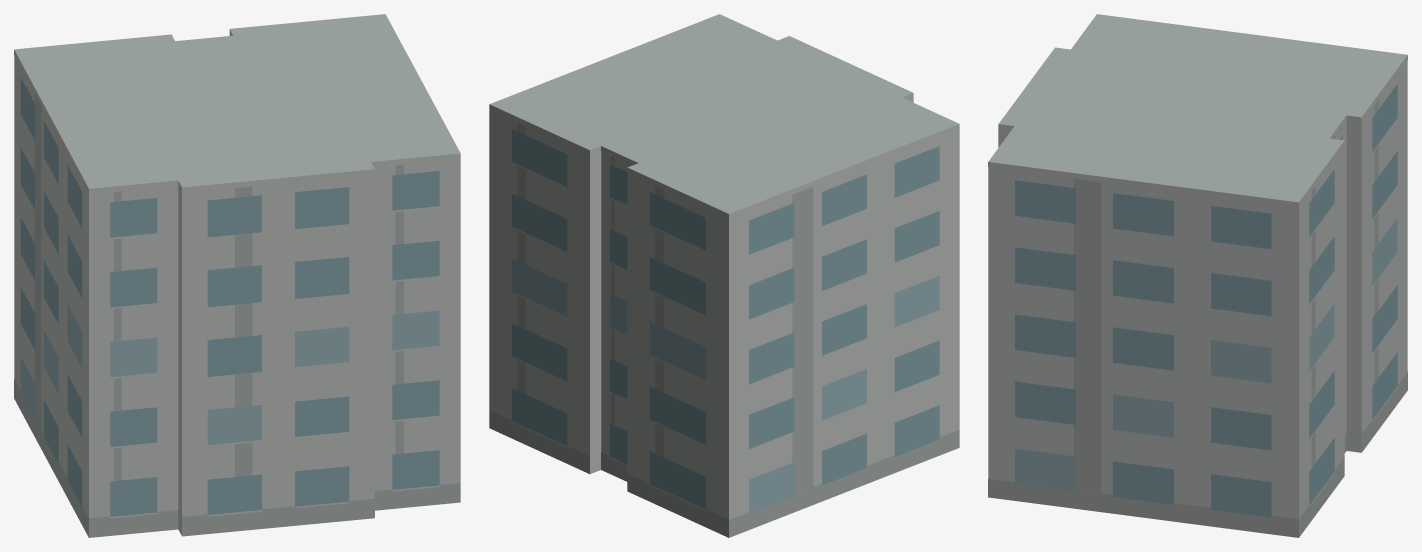
Rendered from survey-upis-32529652.glb.
3 views of the same model, side by side, from view 1: azimuth 30°, elevation 25°; view 2: azimuth 150°, elevation 25°; view 3: azimuth 270°, elevation 25° (orthographic). The views are drawn at different scales.
Parts seen in each view (by area): view 1: survey-upis-32529652.tmp; view 2: survey-upis-32529652.tmp; view 3: survey-upis-32529652.tmp.
Boxes of the visible parts, x1,y1,x2,y2 form: survey-upis-32529652.tmp: [14, 14, 460, 537]; survey-upis-32529652.tmp: [489, 14, 959, 537]; survey-upis-32529652.tmp: [988, 14, 1407, 537].
Bounding box in the file's own units: 17.77 × 14.75 × 16.73.
